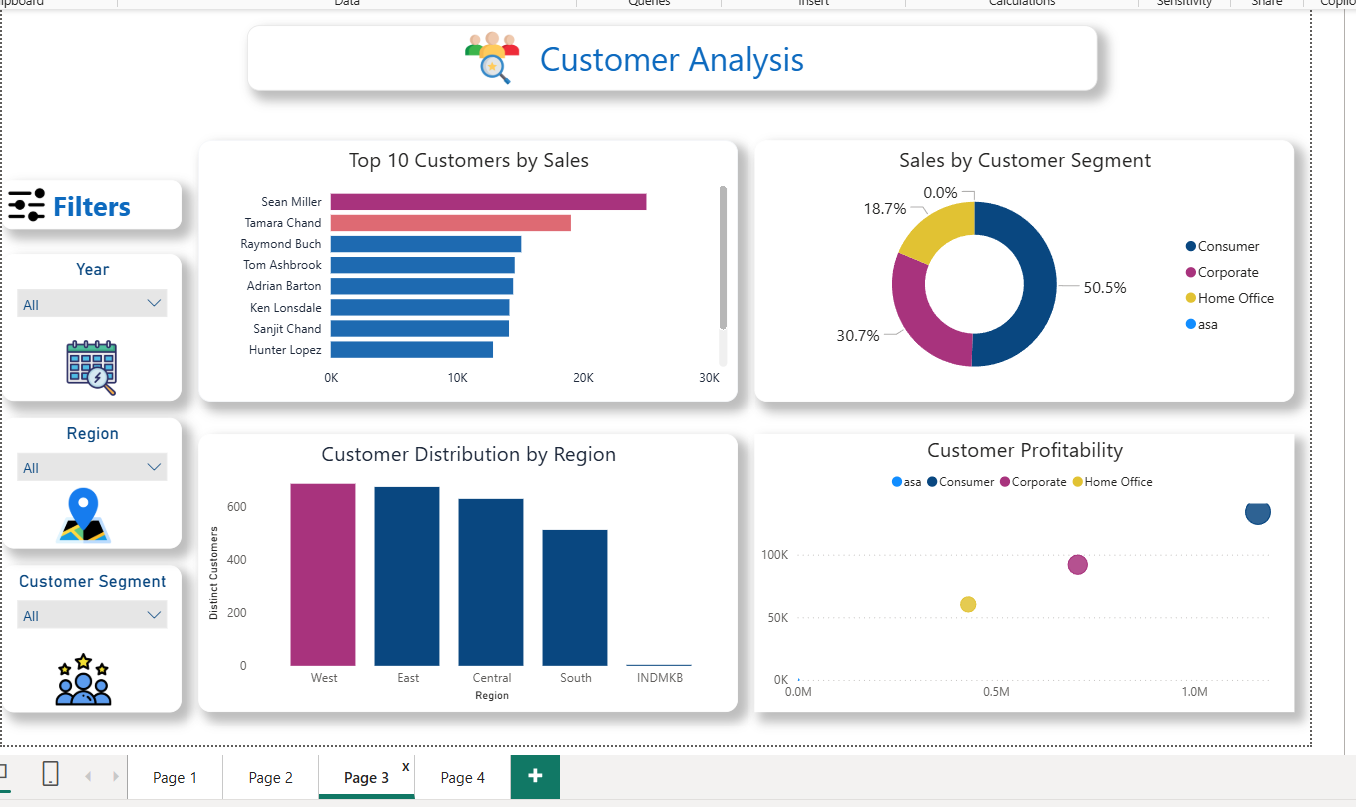

The page's visual inventory and layout, read from the dashboard file:
{"tool":"powerbi","page":{"name":"Page 3","canvas":[1280,720],"ordinal":2},"visuals":[{"type":"shape","box":[0,168,176,48],"z":0},{"type":"image","box":[0,168,48,48],"z":1000},{"type":"slicer","title":"Year","fields":{"Values":["DimDate.OrderYear"]},"box":[0,240,176,144],"z":1000,"group":"g1"},{"type":"group","id":"g1","title":"Group 2","box":[0,240,176,448],"z":2000},{"type":"group","id":"g2","title":"Group 1","box":[240,16,832,64],"z":3000},{"type":"slicer","title":"Customer Segment","fields":{"Values":["DimCustomer.Segment"]},"box":[0,544,176,144],"z":3000,"group":"g1"},{"type":"image","box":[448,0,64,96],"z":4000},{"type":"slicer","title":"Region","fields":{"Values":["DimLocation.Region"]},"box":[0,400,176,128],"z":4000,"group":"g1"},{"type":"clusteredBarChart","title":"Top 10 Customers by Sales","fields":{"Y":["Measures (2).Total Sales"],"Category":["DimCustomer.CustomerName"]},"box":[192,128,528,256],"z":5000},{"type":"donutChart","title":"Sales by Customer Segment","fields":{"Category":["DimCustomer.Segment"],"Y":["Measures (2).Total Sales"]},"box":[736,128,528,256],"z":6000},{"type":"clusteredColumnChart","title":"Customer Distribution by Region","fields":{"Category":["DimLocation.Region"],"Y":["Measures (2).Distinct Customers"]},"box":[192,416,528,272],"z":7000},{"type":"group","id":"g3","title":"Group 4","box":[240,16,832,64],"z":8000,"group":"g2"},{"type":"scatterChart","title":"Customer Profitability","fields":{"Category":["DimCustomer.Segment"],"X":["Measures (2).Total Sales"],"Y":["Measures (2).Total Profit"],"Series":["DimCustomer.Segment"],"Size":["Measures (2).Total Orders"]},"box":[736,416,528,272],"z":8000},{"type":"shape","box":[240,16,832,64],"z":10000,"group":"g3"},{"type":"image","box":[48,624,64,64],"z":12000,"group":"g1"},{"type":"image","box":[48,448,64,96],"z":13000,"group":"g1"},{"type":"image","box":[48,320,80,64],"z":14000,"group":"g1"}]}

Visuals, with their boxes on the page's 1280x720 design canvas (x1, y1, x2, y2). These are canvas units, not pixel positions in the 1356x807 screenshot, which may show the page scaled, cropped or inside an application window:
shape: rect(0, 168, 176, 216)
image: rect(0, 168, 48, 216)
"Year" slicer: rect(0, 240, 176, 384)
"Group 2" group: rect(0, 240, 176, 688)
"Group 1" group: rect(240, 16, 1072, 80)
"Customer Segment" slicer: rect(0, 544, 176, 688)
image: rect(448, 0, 512, 96)
"Region" slicer: rect(0, 400, 176, 528)
"Top 10 Customers by Sales" clusteredBarChart: rect(192, 128, 720, 384)
"Sales by Customer Segment" donutChart: rect(736, 128, 1264, 384)
"Customer Distribution by Region" clusteredColumnChart: rect(192, 416, 720, 688)
"Group 4" group: rect(240, 16, 1072, 80)
"Customer Profitability" scatterChart: rect(736, 416, 1264, 688)
shape: rect(240, 16, 1072, 80)
image: rect(48, 624, 112, 688)
image: rect(48, 448, 112, 544)
image: rect(48, 320, 128, 384)
